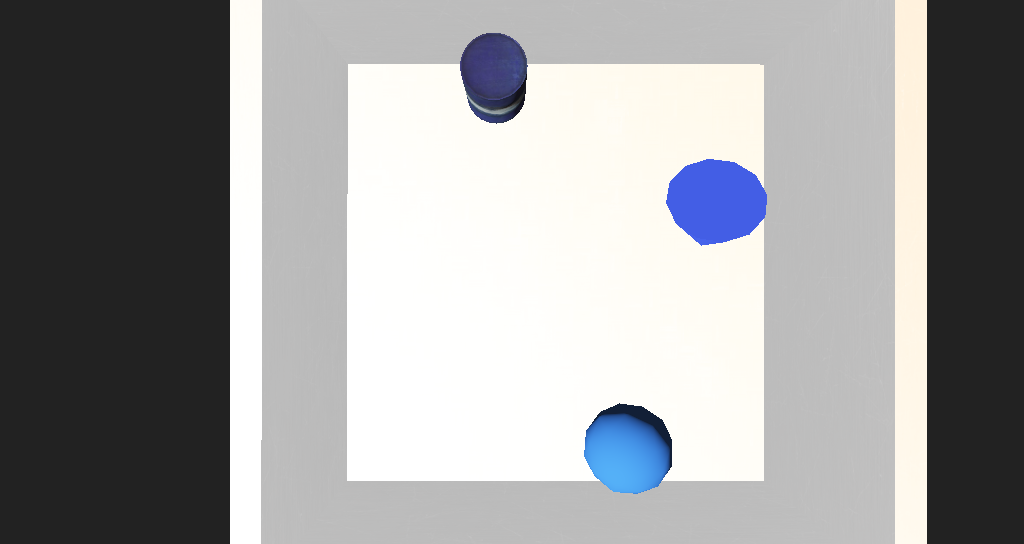cone: (431, 150, 485, 193)
cylinder: (573, 212, 653, 274)
sphere: (529, 336, 589, 379)
